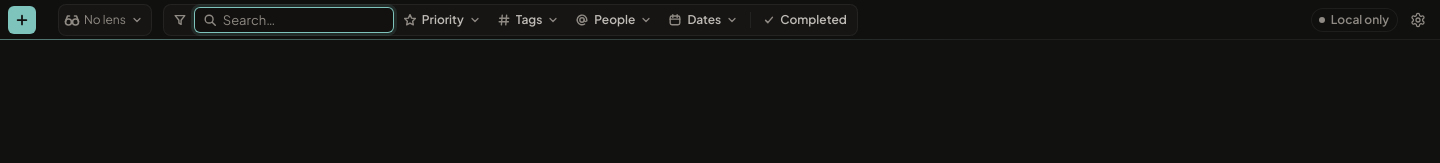
Test: TopBar grouped search › renders a Tags group when the query matches a tag via the registry
Type "urgent" into the field with placeholder "Search…".
click(294, 20); type("urgent")  # box [194,6,394,32]
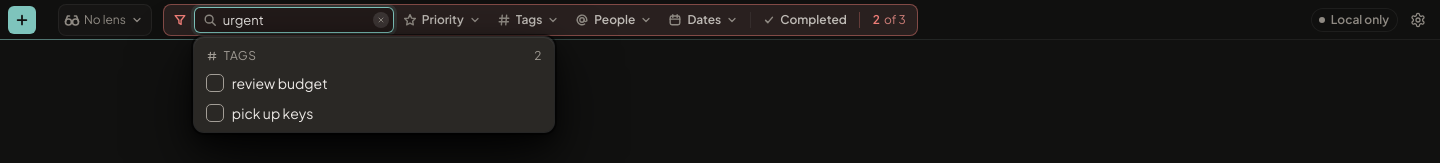
Result: the number of options is 2 at [232,74,542,92]; [232,104,542,122]
